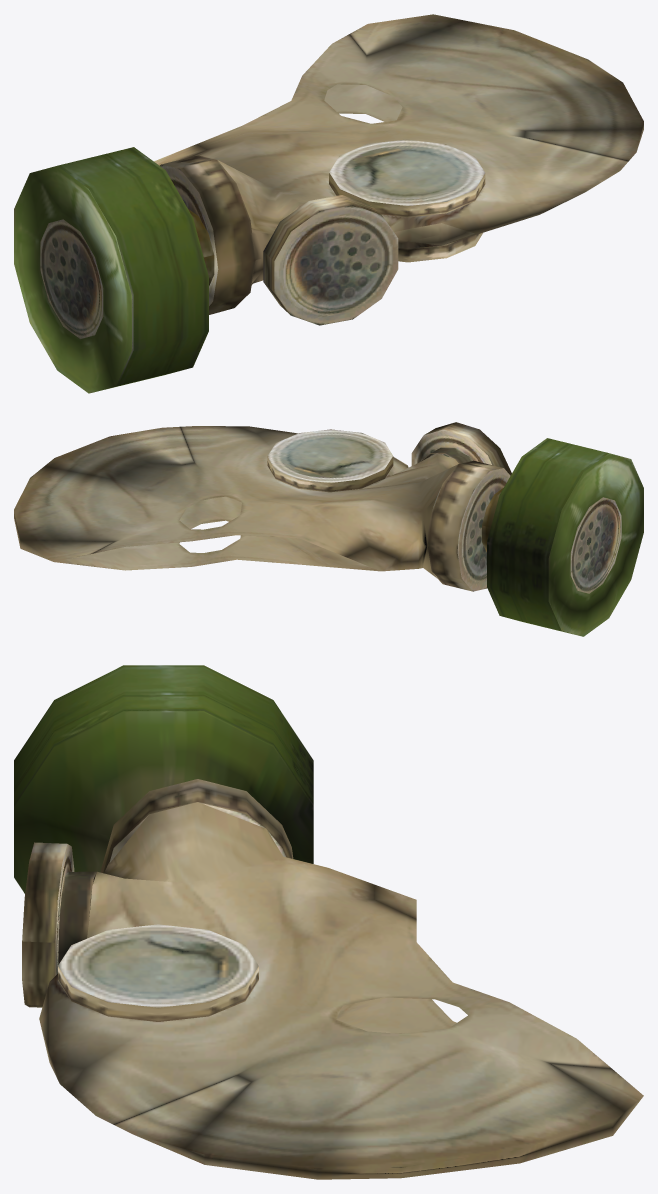
The model's file is item_gasmask1.fbx.
3 renders of one model, top to bottom at view 1: azimuth 30°, elevation 25°; view 2: azimuth 150°, elevation 25°; view 3: azimuth 270°, elevation 25°, orthographic. The views are drawn at different scales.
Parts seen in each view (by area): view 1: 1, 0; view 2: 0, 1; view 3: 0, 1.
Boxes of the visible parts, <box> form: 1: <box>14,139,485,393</box>; 0: <box>154,14,643,284</box>; 0: <box>14,426,472,577</box>; 1: <box>267,422,643,636</box>; 0: <box>39,802,643,1179</box>; 1: <box>14,665,313,1021</box>.
Size of the model in its own units: 0.4334 by 0.1387 by 0.3047.
